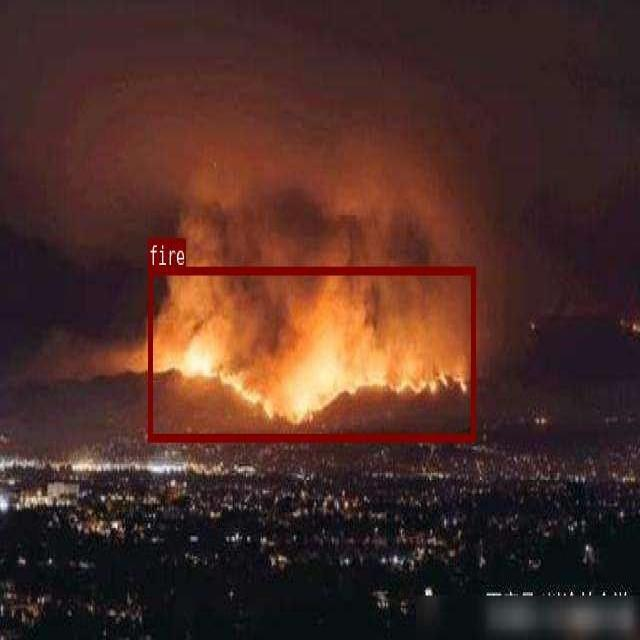fire: (148, 265, 475, 441)
